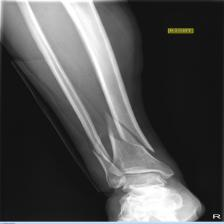spiral-fracture: (1, 0, 207, 218)
